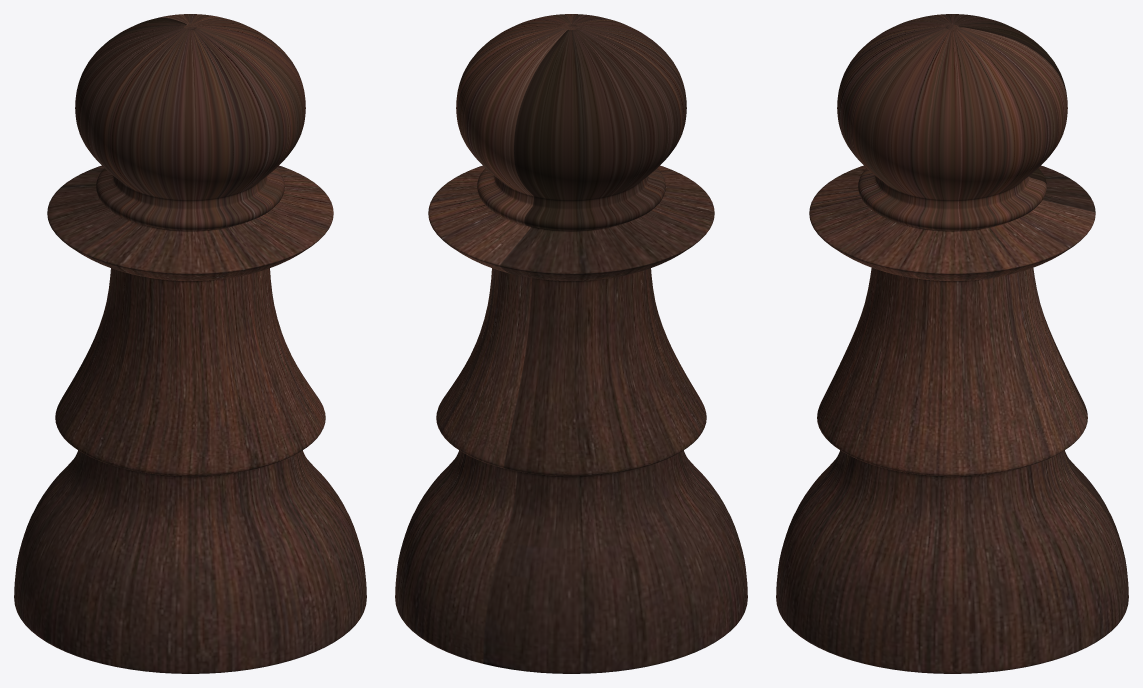
Rendered from BLACK_PAWN.glb.
3 renders of one model, left to right at view 1: azimuth 30°, elevation 25°; view 2: azimuth 150°, elevation 25°; view 3: azimuth 270°, elevation 25°, orthographic.
Visible parts, largest first — view 1: Cylinder006; view 2: Cylinder006; view 3: Cylinder006.
Boxes of the visible parts, box(x1,y1,x2,y2) form: Cylinder006: box(14, 14, 366, 673); Cylinder006: box(395, 14, 747, 673); Cylinder006: box(776, 14, 1128, 673).
Bounding box in the file's own units: 0.5422 × 0.9718 × 0.5422.
1 material, 1 textured.
